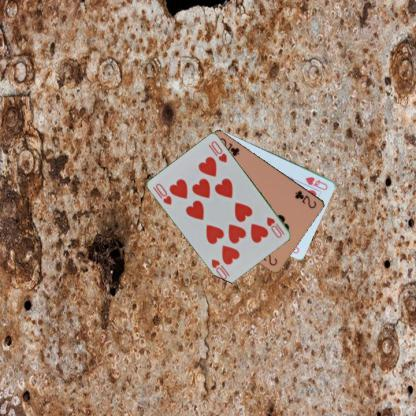10h: (264, 214, 286, 239), (153, 181, 173, 206)
2c: (292, 188, 318, 210)
Qh: (303, 174, 329, 191)
